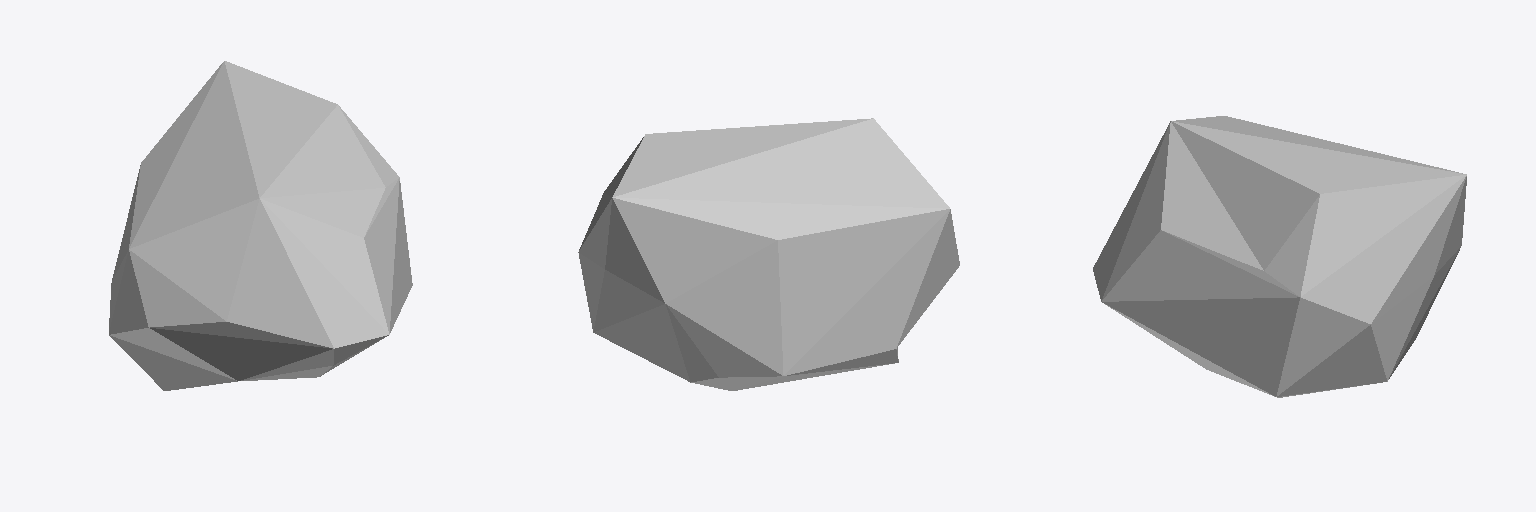
Rendered from rock3 collision.obj.
The picture shows the model from 3 angles: view 1: azimuth 30°, elevation 25°; view 2: azimuth 150°, elevation 25°; view 3: azimuth 270°, elevation 25°; orthographic projection.
Visible parts, largest first — view 1: Icosphere.001; view 2: Icosphere.001; view 3: Icosphere.001.
Part boxes in pixels (x1,y1,x2,y2): Icosphere.001: (109,61,412,390); Icosphere.001: (578,118,959,390); Icosphere.001: (1093,116,1466,397).
Size of the model in its own units: 4.2 by 2.9 by 4.4.